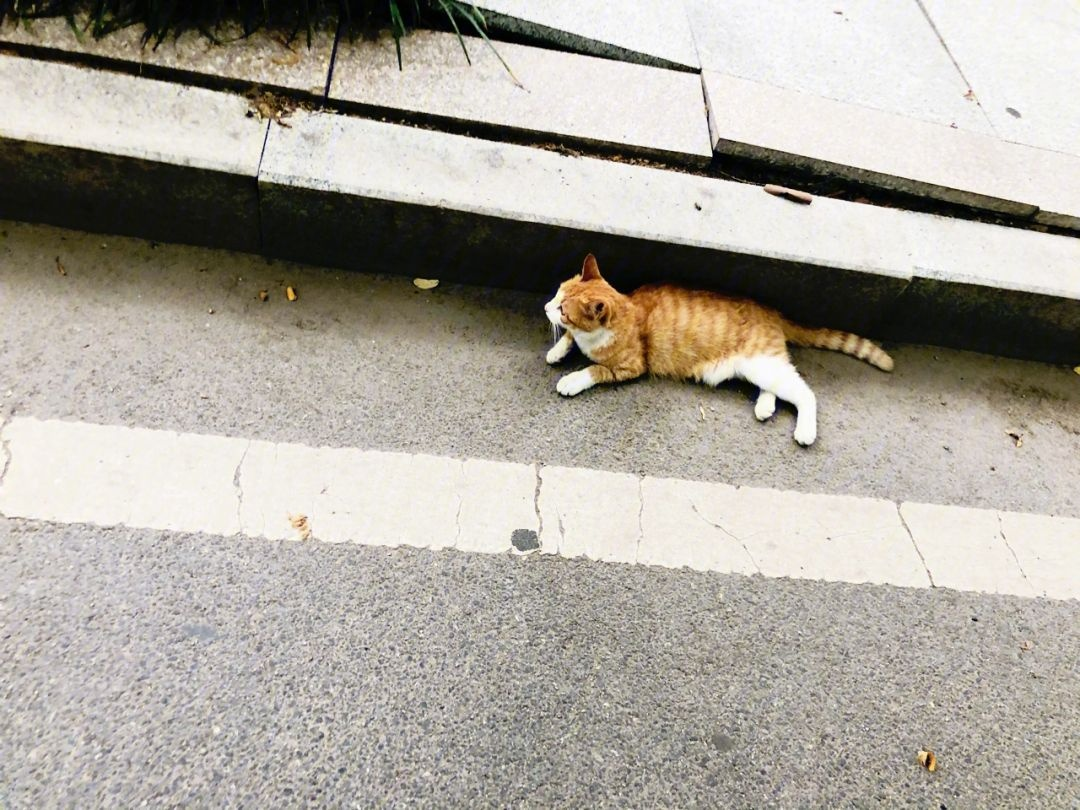cat: (543, 253, 895, 445)
